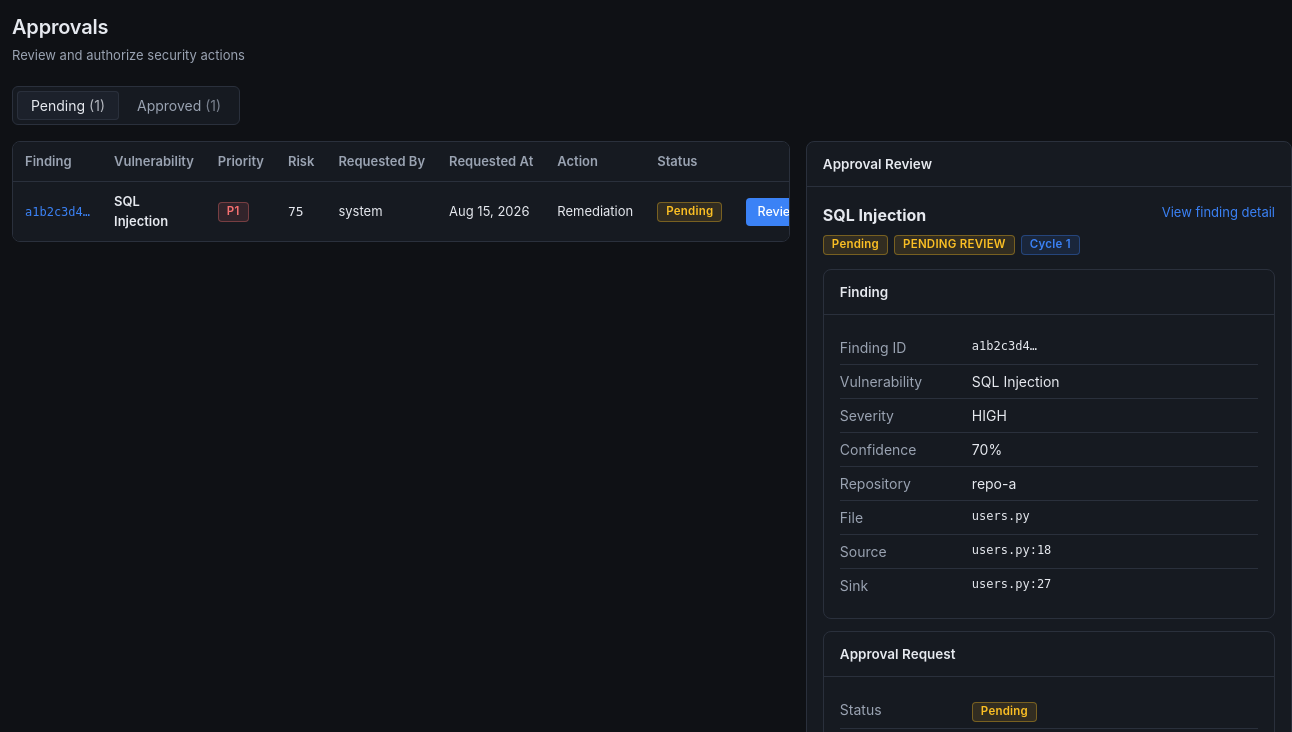
Scenario: approval queue table › switching tabs filters the queue
Expected: the heading "Approvals" is shown, 12,15 -> 108,39
Expected: the number of rows is 2, 13,142 -> 790,182; 13,182 -> 790,241
Click the tab "Approved (1)": point(179, 105) 123,90 -> 235,120
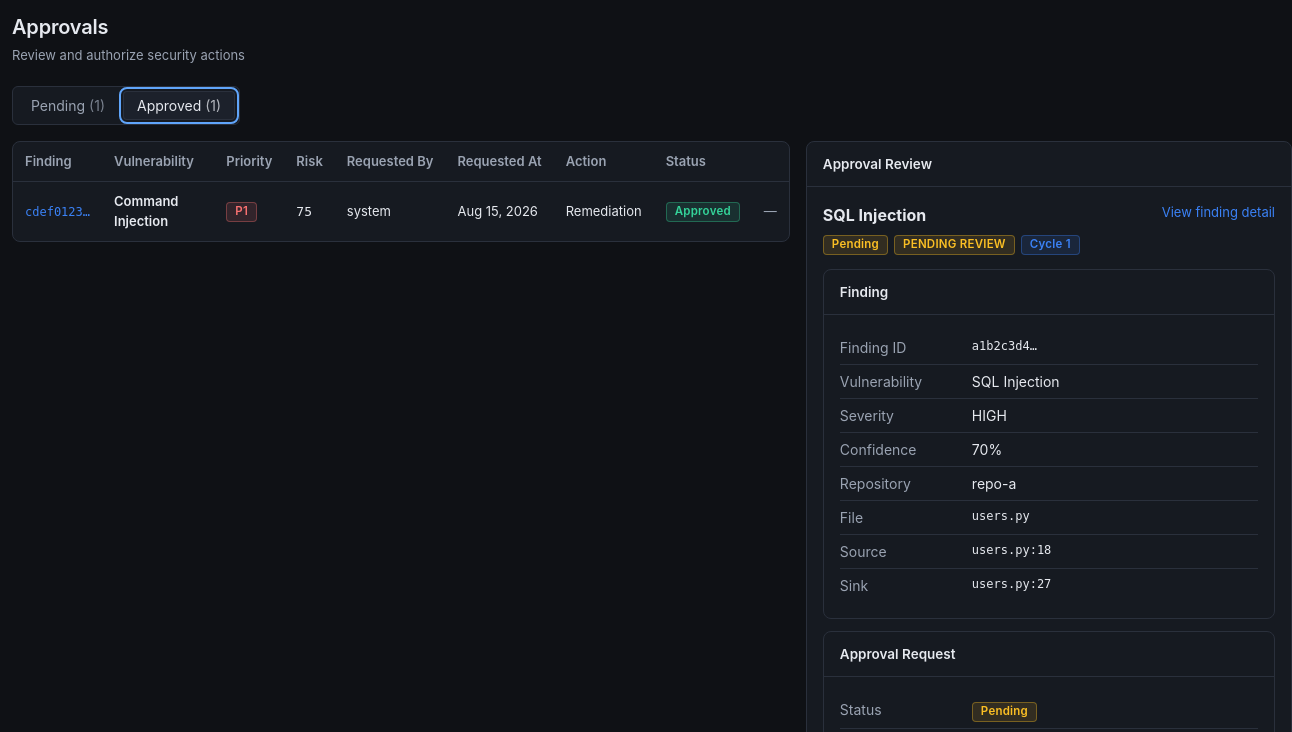
Expected: the number of rows is 2, 13,142 -> 789,182; 13,182 -> 789,241
Expected: the text "Command Injection" is shown, 102,182 -> 214,241
